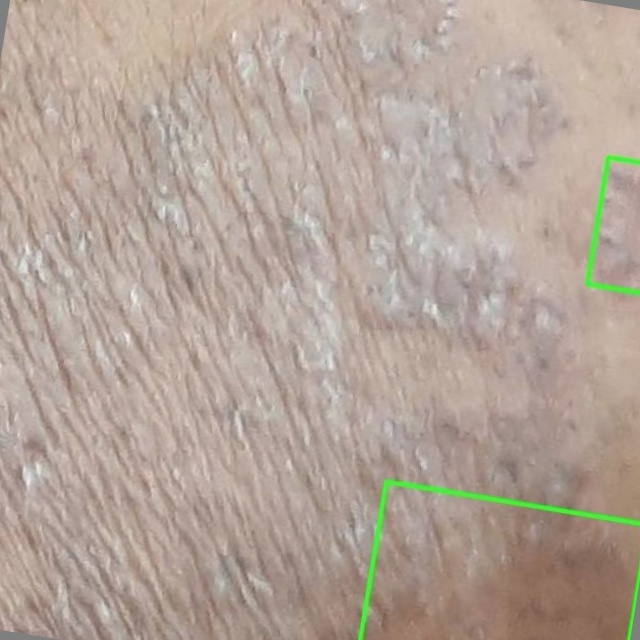Tinea Corporis: (360, 481, 639, 639)
